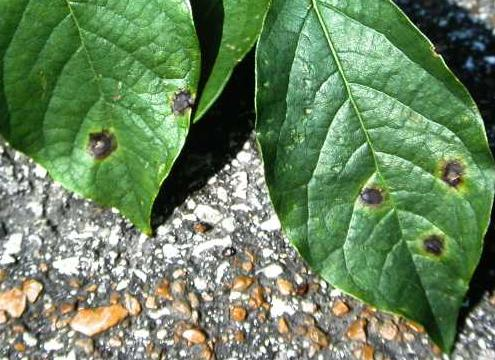Tomato leaf bacterial spot: (246, 0, 495, 360), (0, 0, 219, 246)
